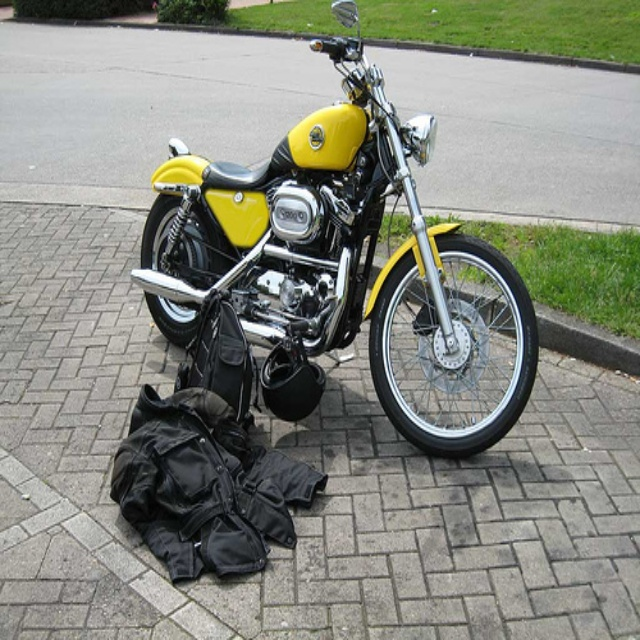Motorcycle: (128, 2, 539, 459)
